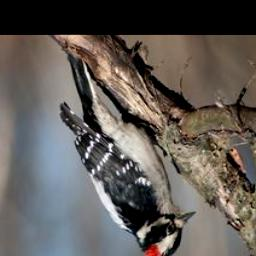Woodpecker: (58, 49, 199, 256)
